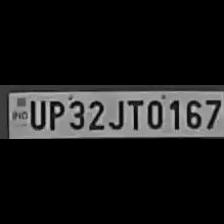0: (142, 96, 164, 130)
1: (164, 98, 182, 130)
2: (85, 98, 105, 130)
3: (65, 98, 84, 130)
6: (181, 97, 201, 129)
7: (202, 96, 222, 130)
J: (107, 96, 125, 130)
P: (46, 97, 64, 131)
T: (125, 96, 143, 130)
U: (26, 98, 44, 130)
